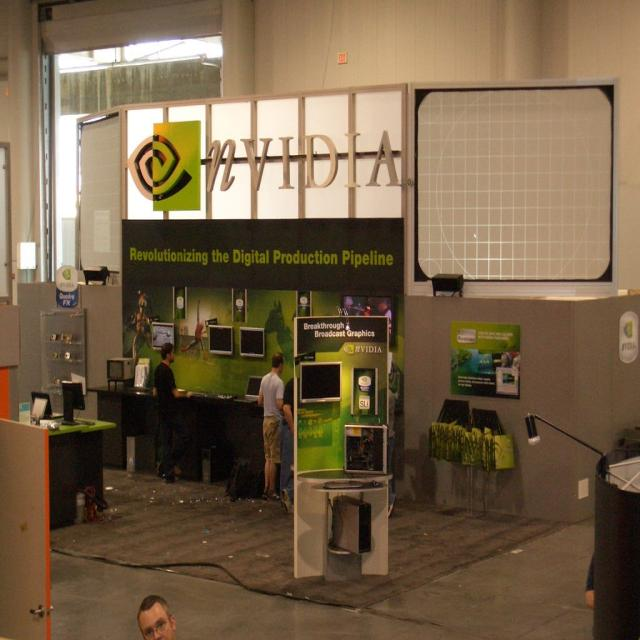nvidia: (128, 122, 203, 212)
